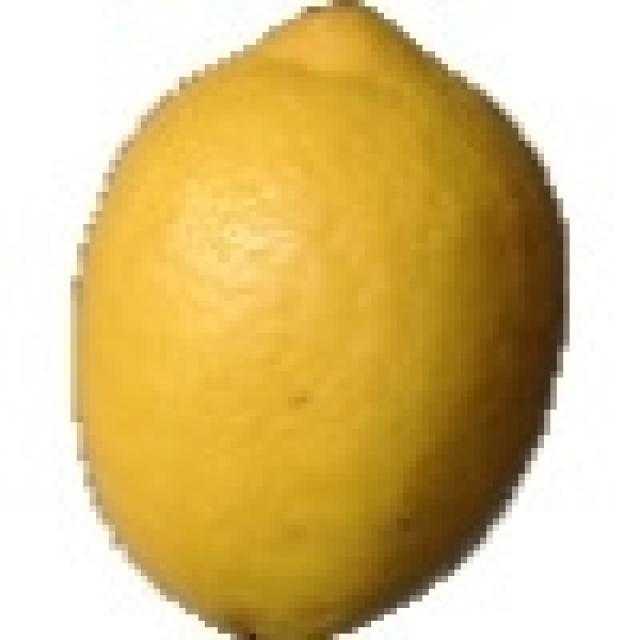lemon: (75, 0, 562, 640)
